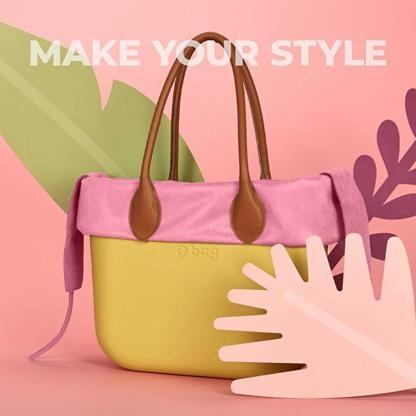not trash: (79, 33, 366, 378)
